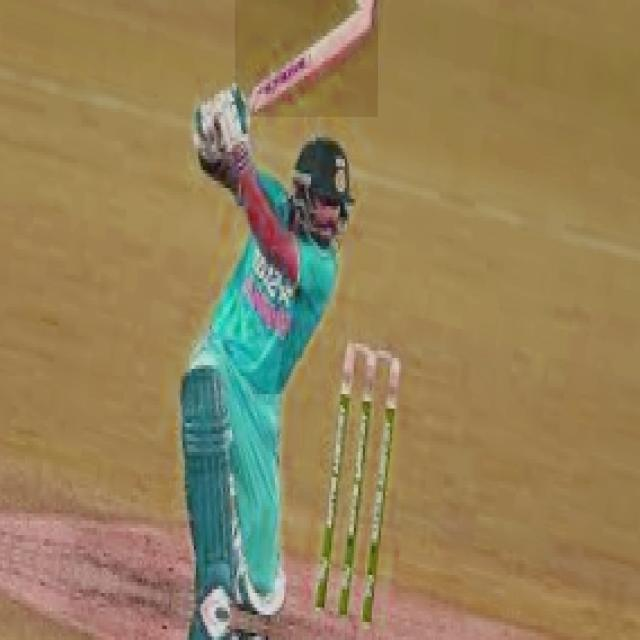bat: (235, 0, 380, 116)
toe: (360, 0, 376, 39)
